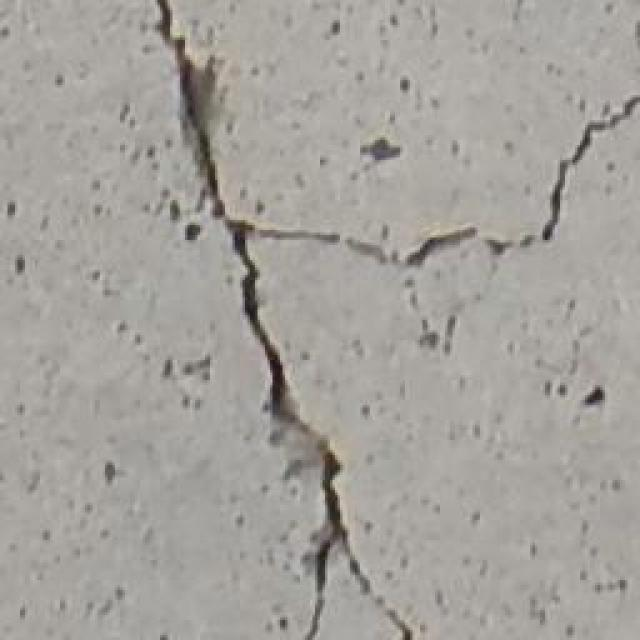concrete-crack: (154, 4, 640, 640)
